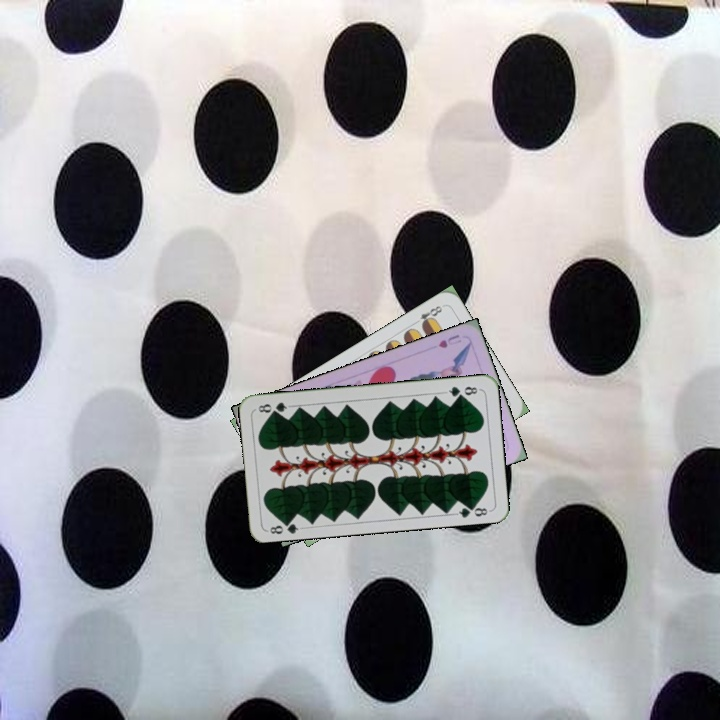E8: (409, 301, 445, 329)
G8: (264, 516, 305, 537), (441, 382, 482, 400)
HU: (434, 330, 464, 351)
